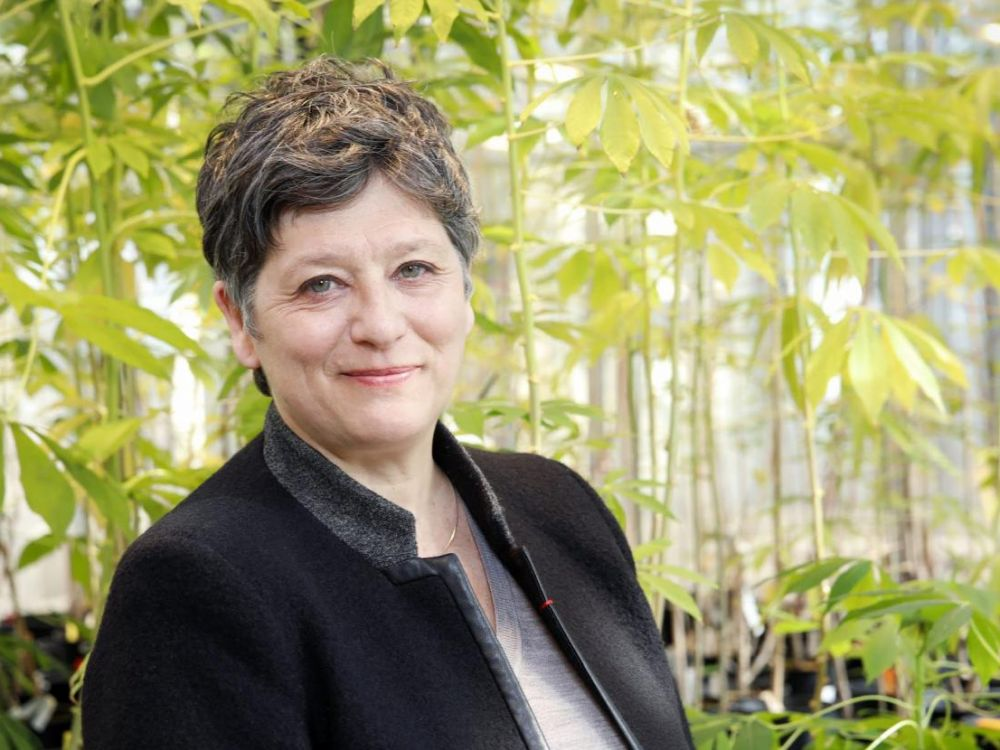without_mask: (281, 217, 445, 410)
